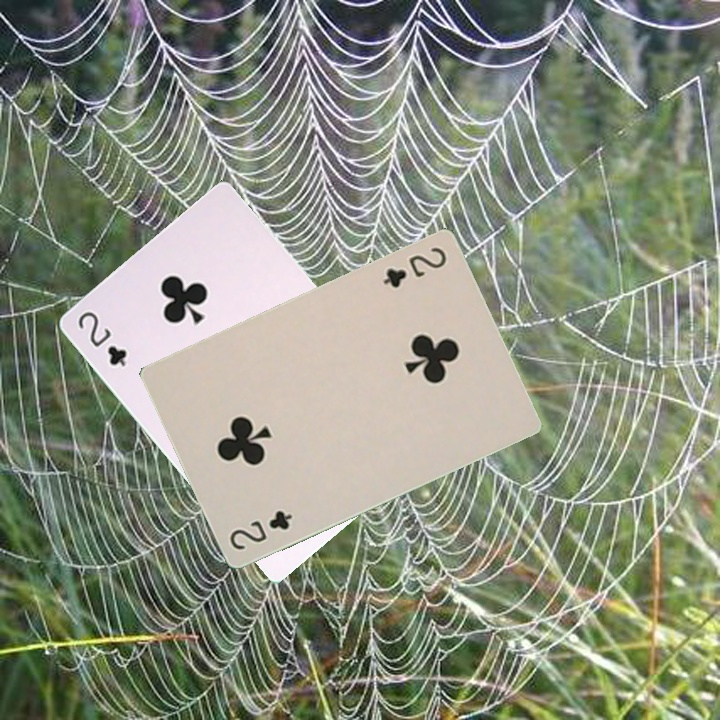2c: (73, 307, 130, 370), (379, 242, 449, 291), (225, 506, 295, 553)
